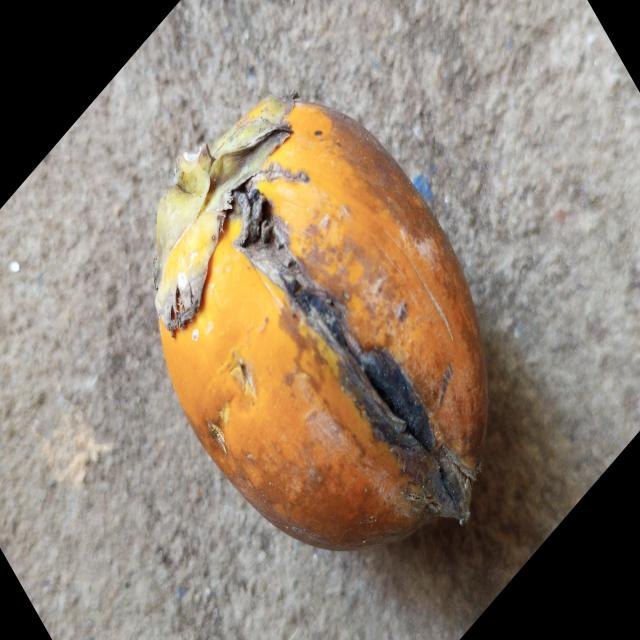damaged: (153, 97, 489, 554)
